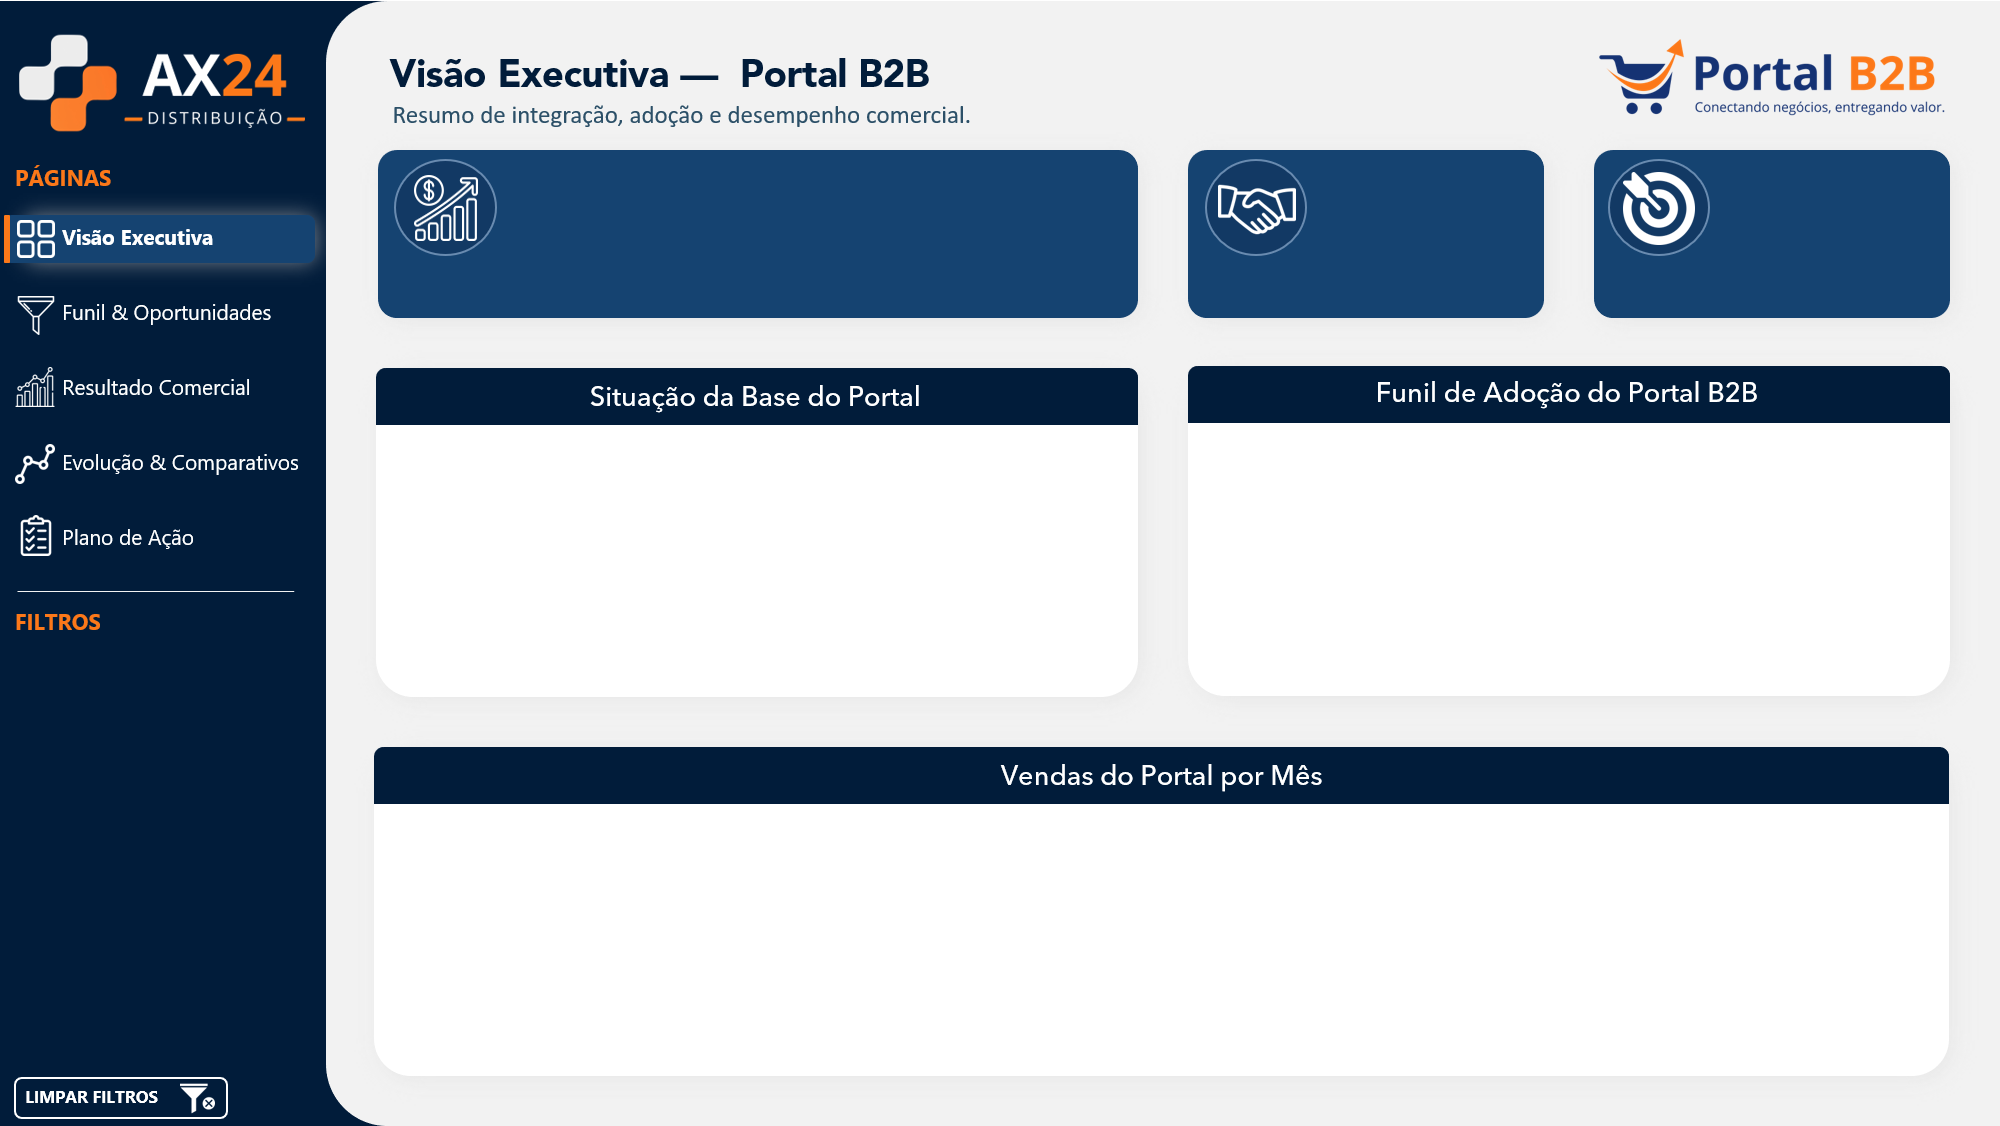

What the dashboard file says about the page in this screenshot:
{"tool":"powerbi","page":{"name":"Visão Executiva","canvas":[1280,720],"ordinal":1},"visuals":[{"type":"cardVisual","fields":{"Data":["Medidas.% Clientes Integrados Portal"]},"box":[761.5,96.9,243.8,109.2],"z":0},{"type":"cardVisual","fields":{"Data":["Medidas.Qtd Oportunidades"]},"box":[1023.8,96.9,243.8,109.2],"z":1000},{"type":"funnel","fields":{"Y":["Medidas.Qtd Registros Portal","Medidas.Qtd Clientes com Cadastro Interno","Medidas.Qtd Clientes Integrados Portal","Medidas.Qtd Integrados com Compra Portal"]},"box":[761.8,271.2,482.1,171.4],"z":2000},{"type":"barChart","fields":{"Category":["f_OportunidadesPortal.Status PORTALB2B"],"Y":["Medidas.Qtd Registros Portal"]},"box":[237.7,262.7,489.9,179.9],"z":3000},{"type":"clusteredColumnChart","fields":{"Category":["d_Calendario.Mes Ano"],"Y":["Medidas.Valor Venda Portal B2B"]},"box":[237.6,511.7,1006.6,175],"z":4000},{"type":"cardVisual","fields":{"Data":["Medidas.Valor Venda Geral","Medidas.Valor Venda Portal B2B"]},"box":[321.8,74.7,419.4,108.8],"z":5000},{"type":"barChart","fields":{"Y":["Medidas.% Venda Portal B2B","Medidas.% Venda Fora Portal B2B"]},"box":[348.8,141.2,373.5,46.5],"z":6000},{"type":"textbox","box":[348.2,172.4,292.9,36.5],"z":7000},{"type":"slicer","title":"Estabelecimento","fields":{"Values":["d_Estabelecimento.Estabelecimento"]},"box":[0,410,209.3,56.4],"z":8000},{"type":"slicer","title":"Periodo","fields":{"Values":["d_Calendario.Date"]},"box":[0,471.4,209.3,90],"z":9000},{"type":"actionButton","box":[0,679.3,176.4,34.3],"z":10000}]}

Visuals, with their boxes on the page's 1280x720 design canvas (x1, y1, x2, y2). These are canvas units, not pixel positions in the 2000x1126 screenshot, which may show the page scaled, cropped or inside an application window:
cardVisual - Medidas.% Clientes Integrados Portal: box=[762, 97, 1005, 206]
cardVisual - Medidas.Qtd Oportunidades: box=[1024, 97, 1268, 206]
funnel - Medidas.Qtd Registros Portal x Medidas.Qtd Clientes com Cadastro Interno: box=[762, 271, 1244, 443]
barChart - f_OportunidadesPortal.Status PORTALB2B x Medidas.Qtd Registros Portal: box=[238, 263, 728, 443]
clusteredColumnChart - d_Calendario.Mes Ano x Medidas.Valor Venda Portal B2B: box=[238, 512, 1244, 687]
cardVisual - Medidas.Valor Venda Geral x Medidas.Valor Venda Portal B2B: box=[322, 75, 741, 184]
barChart - Medidas.% Venda Portal B2B x Medidas.% Venda Fora Portal B2B: box=[349, 141, 722, 188]
textbox: box=[348, 172, 641, 209]
"Estabelecimento" slicer: box=[0, 410, 209, 466]
"Periodo" slicer: box=[0, 471, 209, 561]
actionButton: box=[0, 679, 176, 714]
